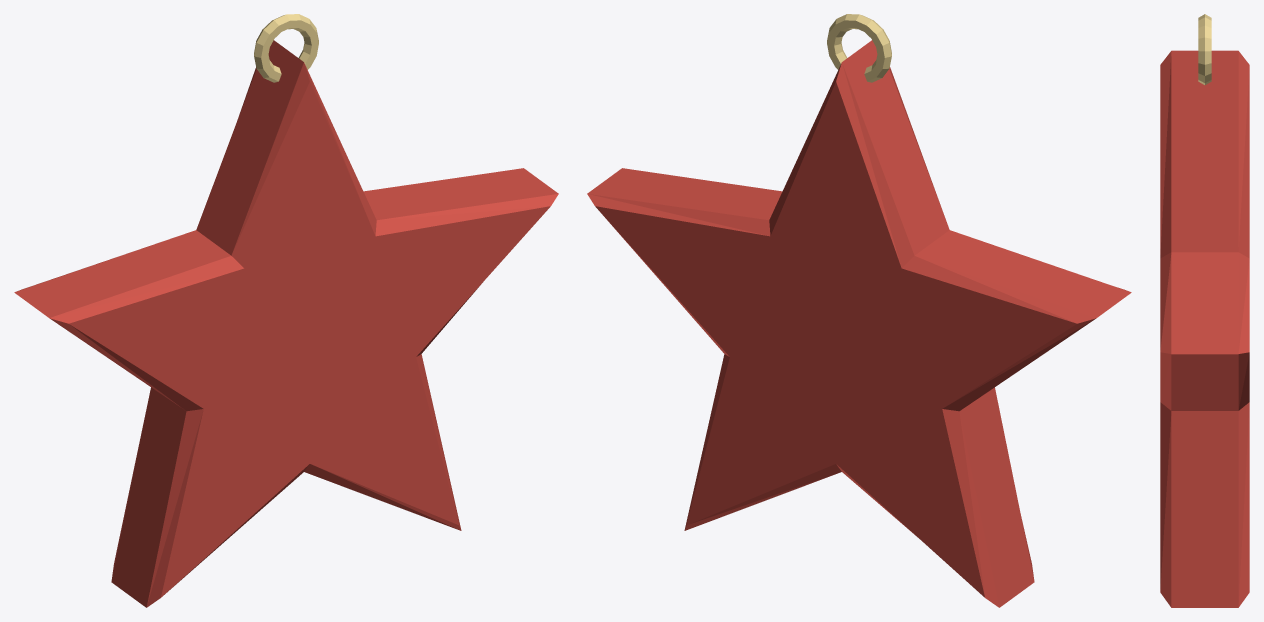
Rendered from star-red-2_5in.glb.
3 views of the same model, side by side, from view 1: azimuth 30°, elevation 25°; view 2: azimuth 150°, elevation 25°; view 3: azimuth 270°, elevation 25° (orthographic). The views are drawn at different scales.
Visible parts, largest first — view 1: star; view 2: star; view 3: star.
Part boxes in pixels (bbox=[...]): star: bbox=[14, 14, 558, 607]; star: bbox=[587, 14, 1131, 607]; star: bbox=[1160, 14, 1249, 607].
Size of the model in its own units: 0.0625 by 0.0635 by 0.00995.
